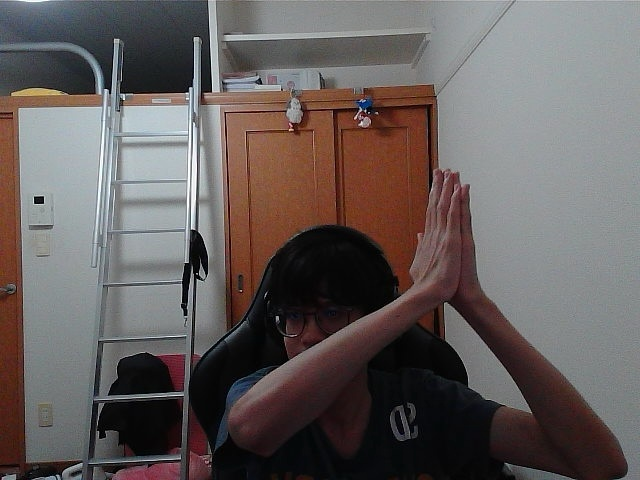pray: (420, 171, 458, 277)
